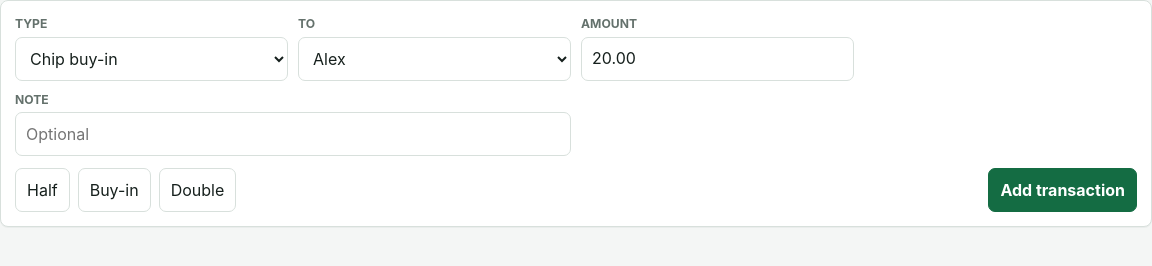
Test: TransactionForm › offers transfer amounts based on the default buy-in
Select "Player gave" in the dropdown labelled "Type" at (152, 59), box [15,37,288,81]
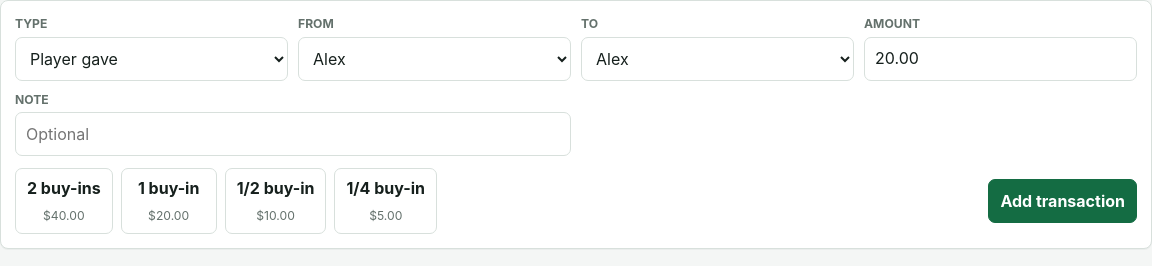
Expected: the button "2 buy-ins $40.00" is shown, [15,168,113,234]
Expected: the button "1 buy-in $20.00" is shown, [121,168,217,234]
Expected: the button "1/2 buy-in $10.00" is shown, [225,168,326,234]
Click the button "1/4 buy-in $5.00" at (386, 201), box [334,168,437,234]
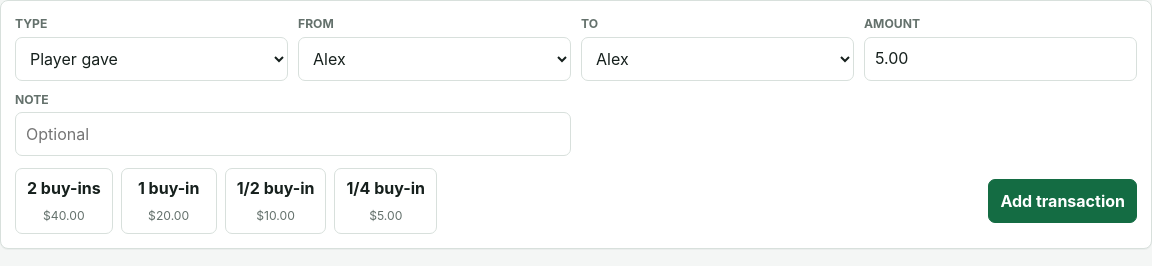
Expected: the field labelled "Amount" holds "5.00", [864,37,1137,81]
